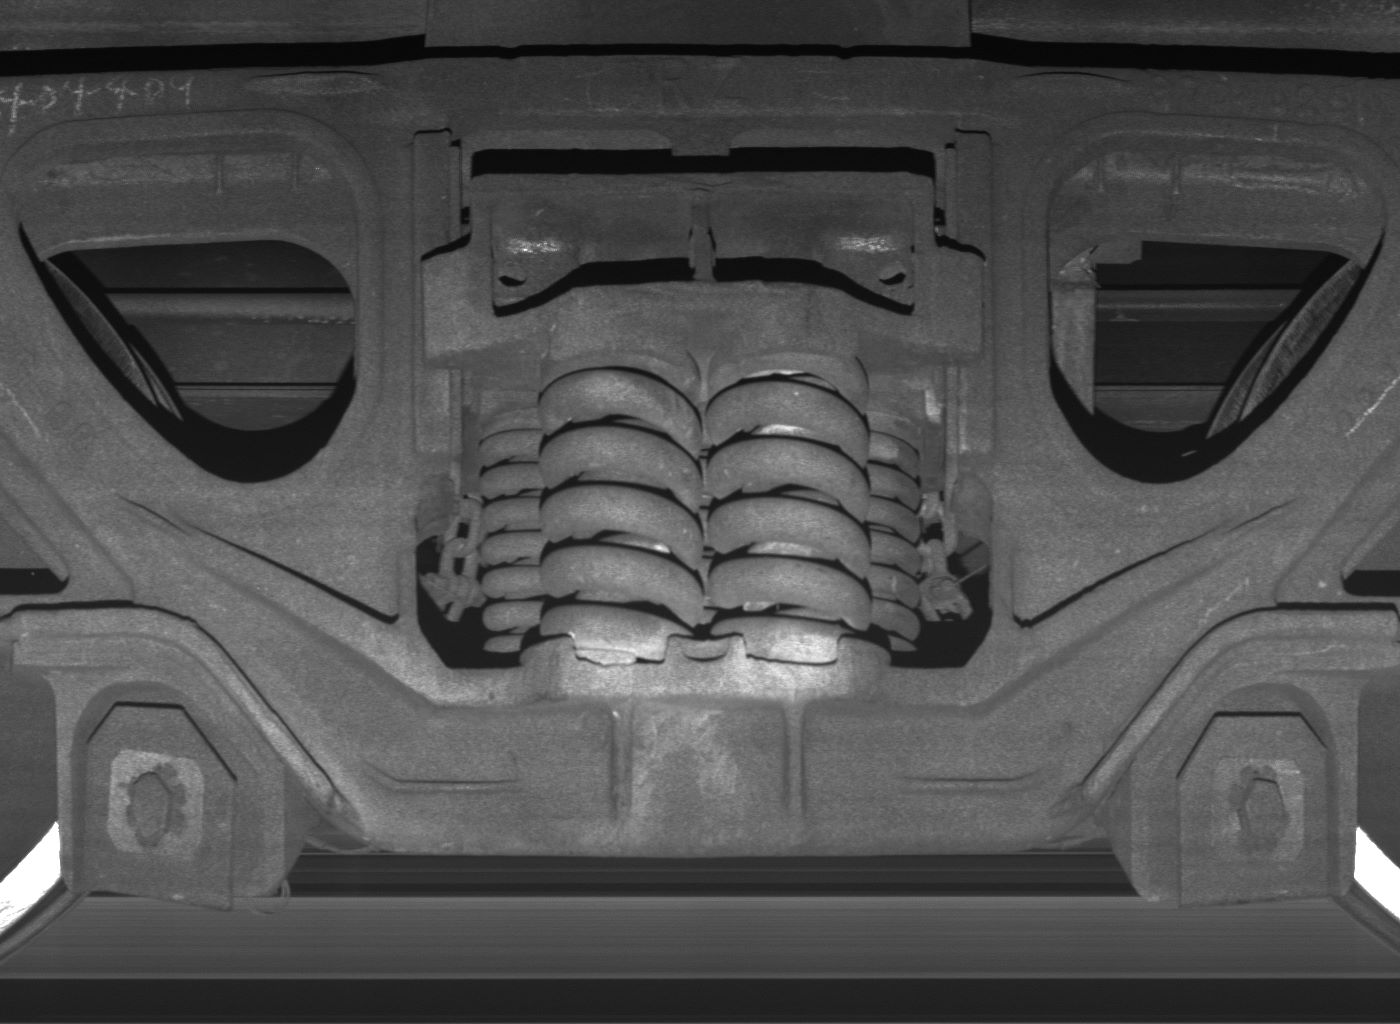locking plate: (55, 682, 286, 912)
normal: (1129, 684, 1358, 908)
